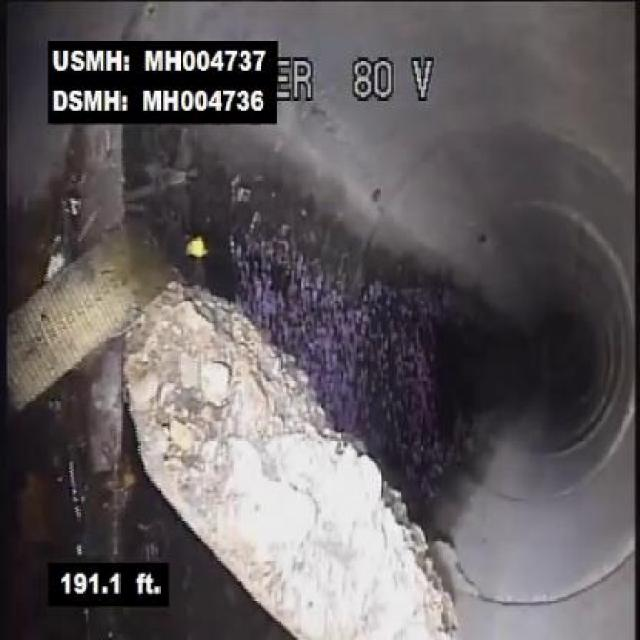Obstacle: (119, 226, 486, 639)
